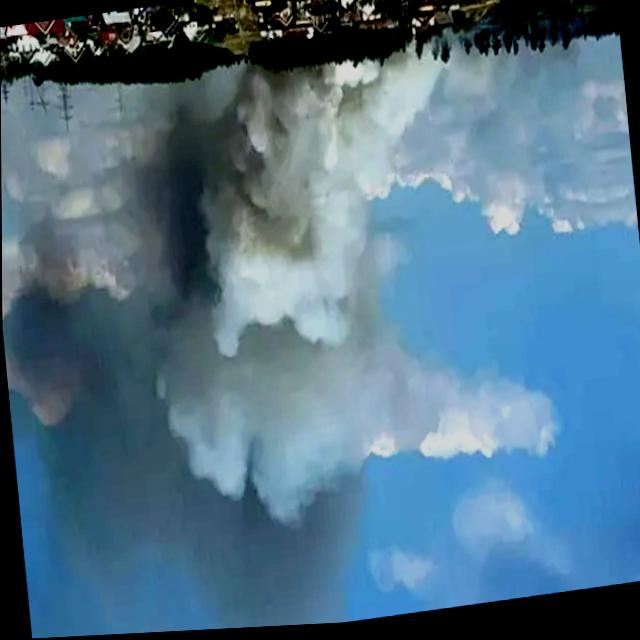no_helmet: (121, 51, 486, 564)
